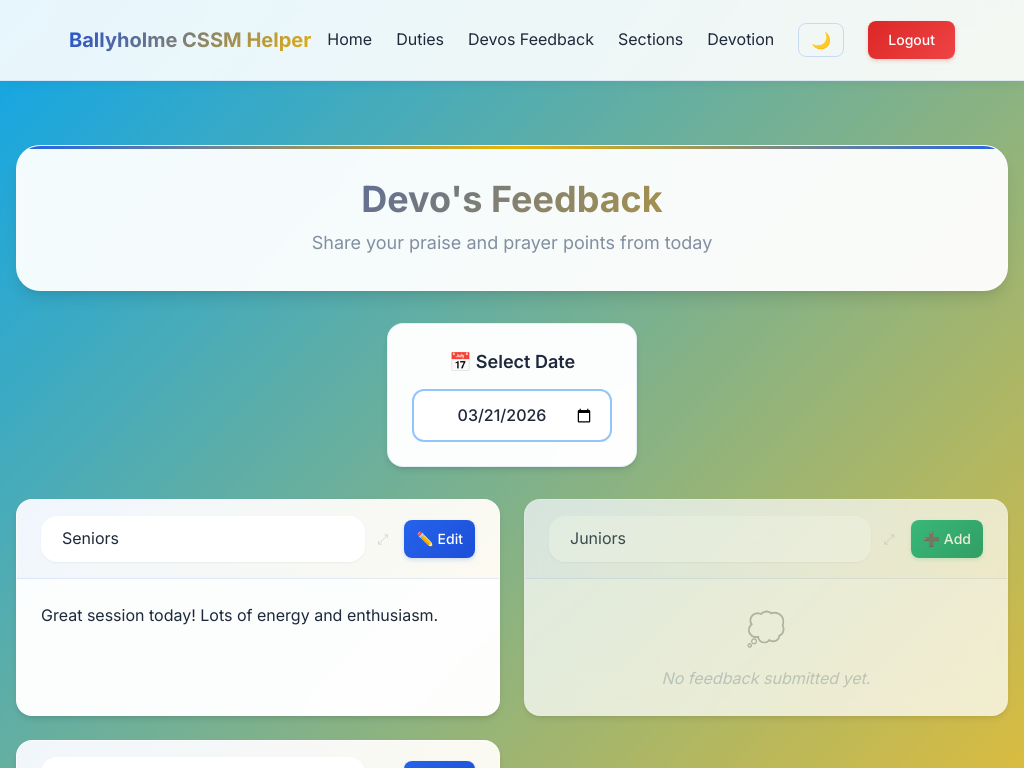
Test: DevoFeedback › empty section is expandable and shows empty state in focus mode
Check: the heading "Seniors" is shown, box x1=41 y1=516 x2=365 y2=562
Click the button with aria-label "view juniors feedback in focus mode" at [766, 648], box x1=662 y1=609 x2=870 y2=688
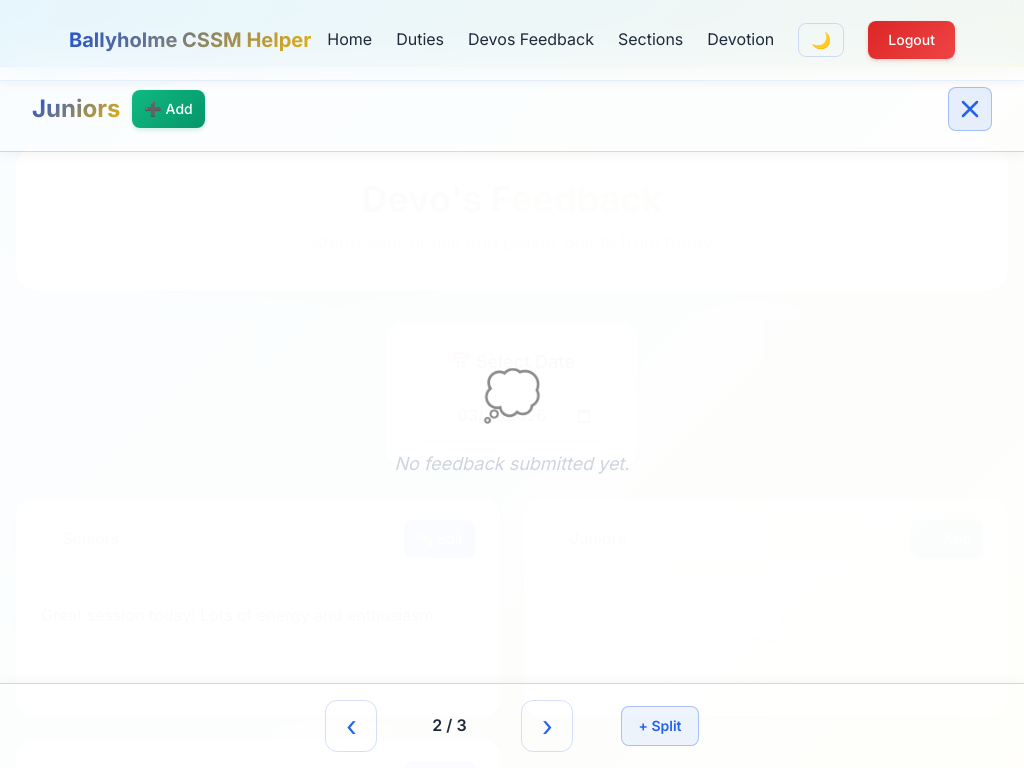
Check: the dialog is shown
Check: the dialog shows "No feedback submitted yet.", box x1=394 y1=452 x2=629 y2=474
